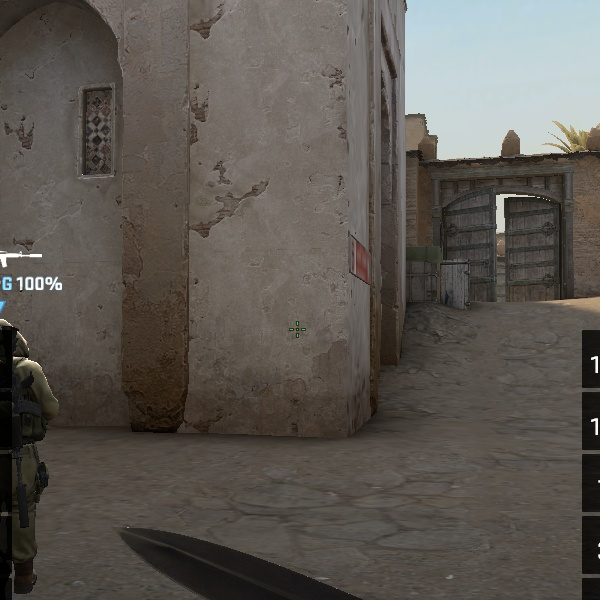ct_body: (5, 312, 52, 587)
ct_head: (1, 315, 30, 363)
